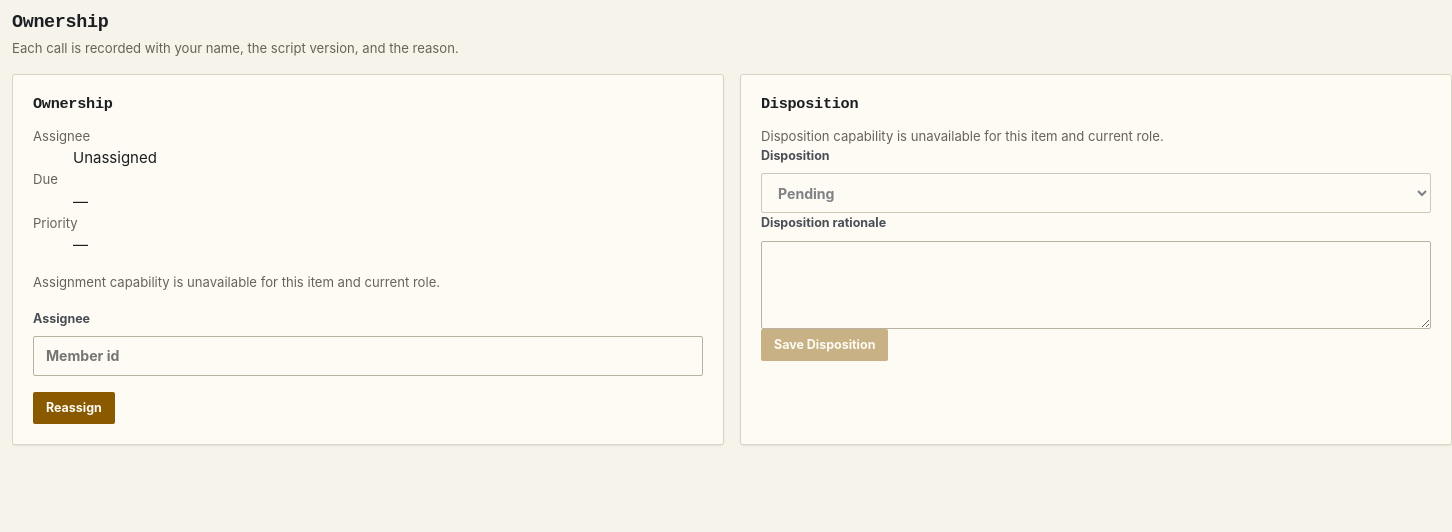
Test: ItemGovernanceControls authoritative assignment › preserves the assignee when the command is rejected
Type "member-2" into the field labelled "Assignee". click: (368, 356)
box: [33,336,703,376]
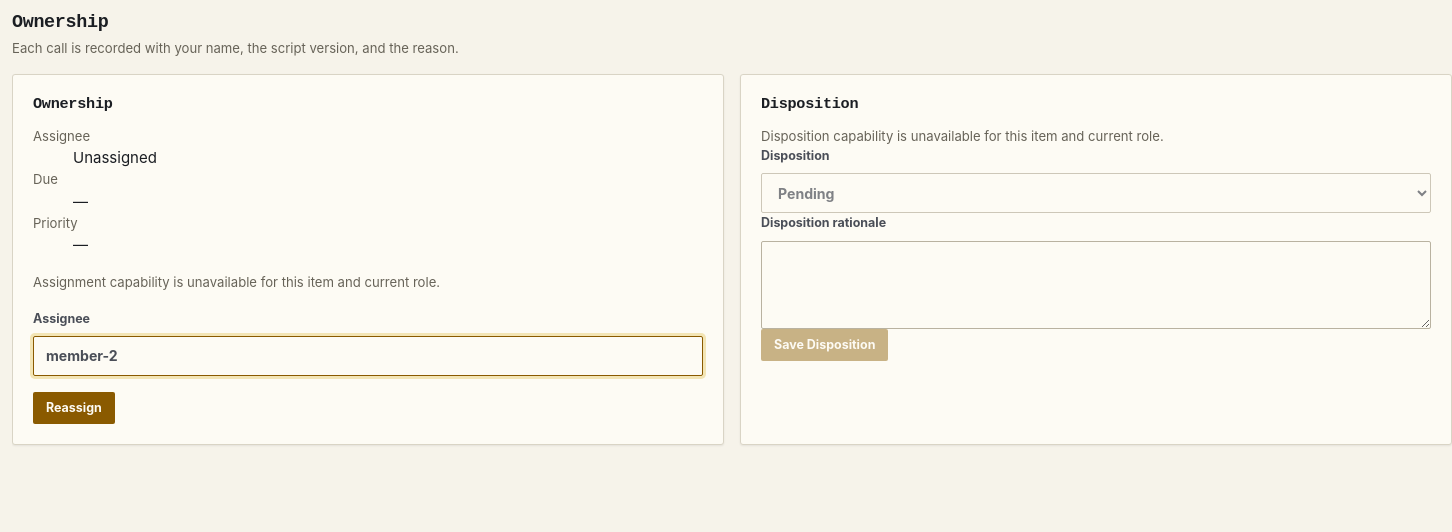
Click the button "Reassign". click: (74, 408)
box: [33,392,115,424]
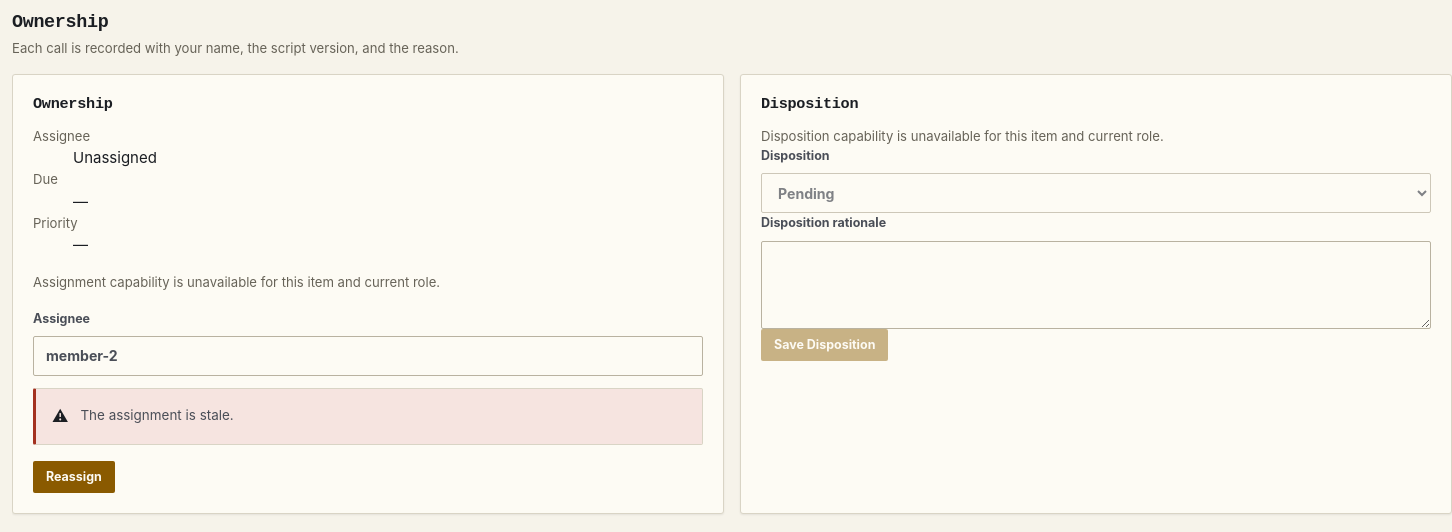
Result: the message shows "stale" at [80,407,234,423]
